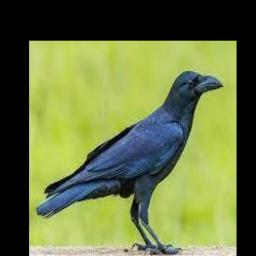Crow: (35, 70, 223, 253)
